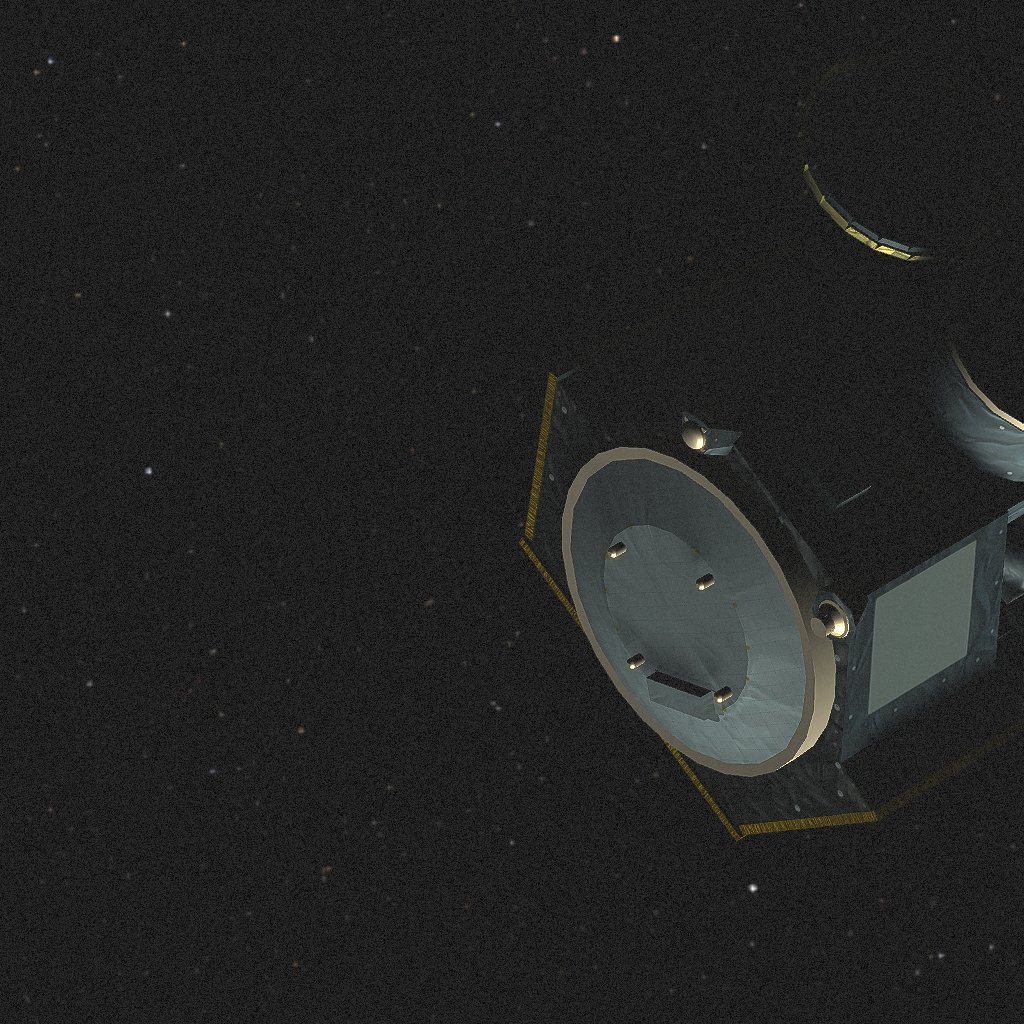cheops: (529, 73, 1004, 838)
